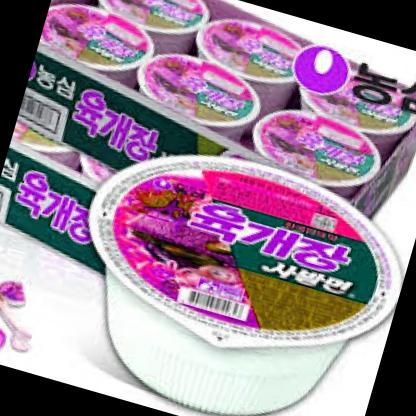Ramen: (42, 124, 416, 416), (240, 92, 396, 201), (127, 40, 274, 151), (30, 0, 163, 103), (285, 47, 416, 146), (189, 6, 318, 105), (84, 0, 219, 60)
